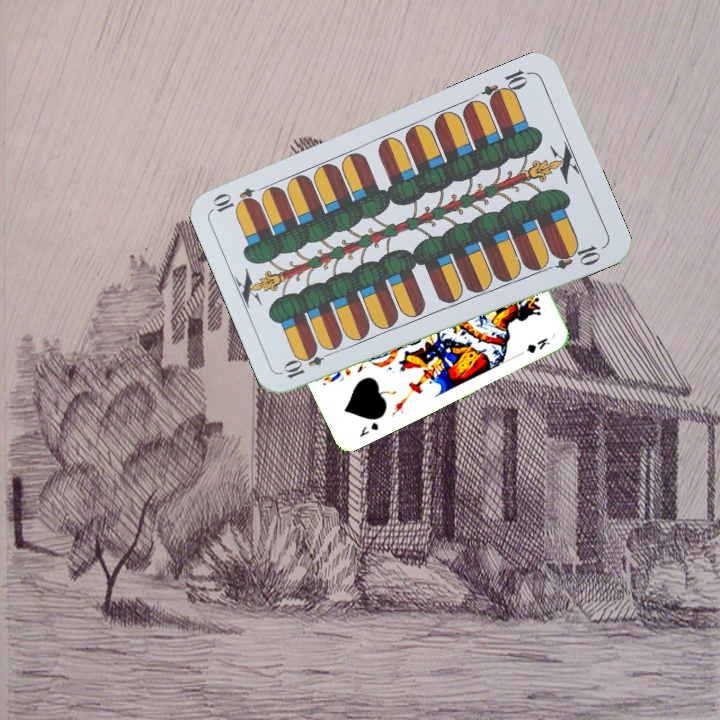E10: (478, 65, 534, 106), (280, 345, 337, 382)
GK: (355, 418, 381, 440)
